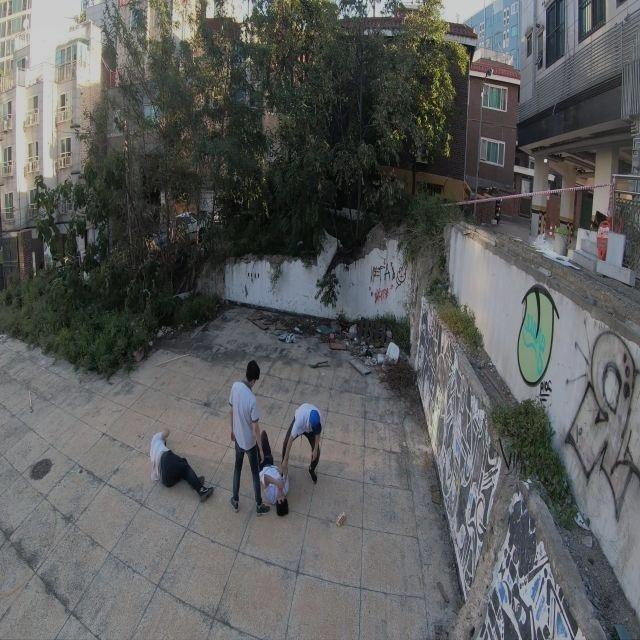fight: (224, 362, 327, 522)
non-fight: (141, 422, 218, 501)
